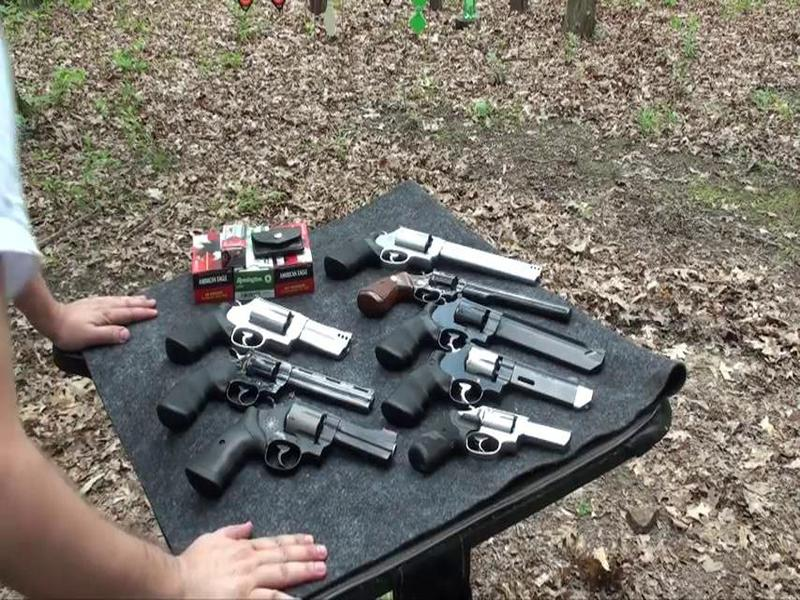Revolver: (177, 394, 407, 508), (383, 333, 605, 428), (315, 213, 572, 293), (158, 279, 354, 369)
